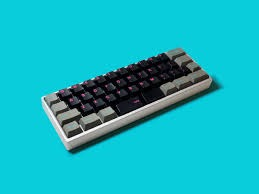keyboard: (31, 44, 232, 161)
